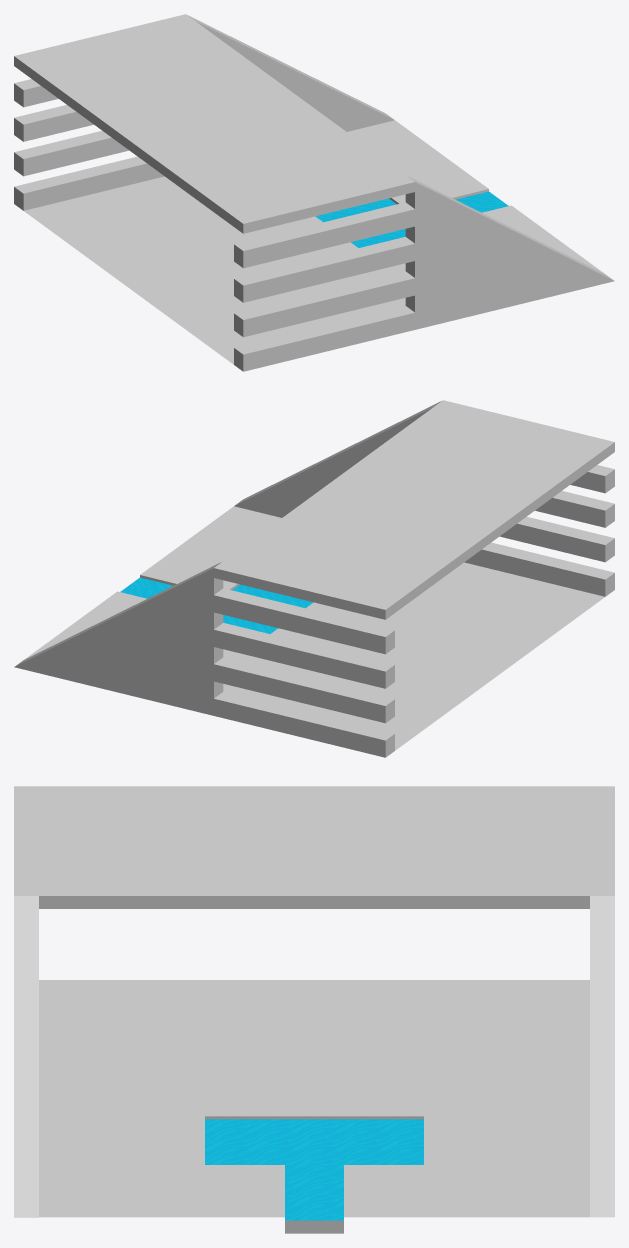
Rendered from dic8.glb.
3 renders of one model, top to bottom at view 1: azimuth 30°, elevation 25°; view 2: azimuth 150°, elevation 25°; view 3: azimuth 270°, elevation 25°, orthographic. The views are drawn at different scales.
Parts seen in each view (by area): view 1: dic8; view 2: dic8; view 3: dic8.
Boxes of the visible parts, box(x1,y1,x2,y2) form: dic8: box(14, 14, 614, 371); dic8: box(14, 400, 614, 757); dic8: box(14, 786, 614, 1233).
Bounding box in the file's own units: 7.81 × 3.22 × 8.35.
2 materials, 1 textured.
